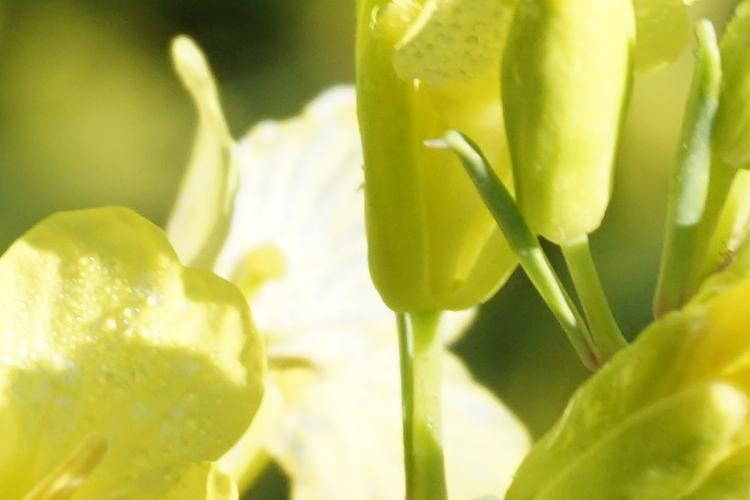bud: (503, 21, 627, 236)
yellow: (3, 204, 270, 500), (362, 5, 530, 321), (541, 302, 745, 489)
